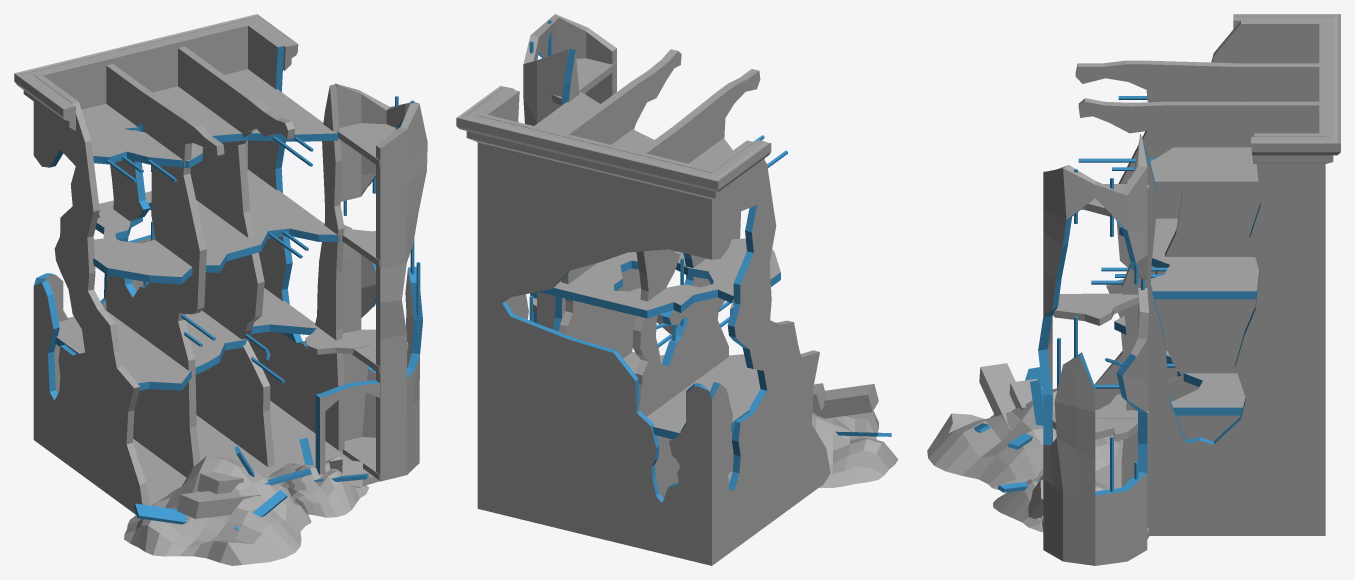
The model's file is Building_Ruin_01.fbx.
3 renders of one model, left to right at view 1: azimuth 30°, elevation 25°; view 2: azimuth 150°, elevation 25°; view 3: azimuth 270°, elevation 25°, orthographic. The views are drawn at different scales.
Visible parts, largest first — view 1: Building_Ruin_01; view 2: Building_Ruin_01; view 3: Building_Ruin_01.
Part boxes in pixels (x1,y1,x2,y2): Building_Ruin_01: (14,14,427,565); Building_Ruin_01: (456,14,898,565); Building_Ruin_01: (927,14,1340,565).
Bounding box in the file's own units: 1546 × 1774 × 1646.
